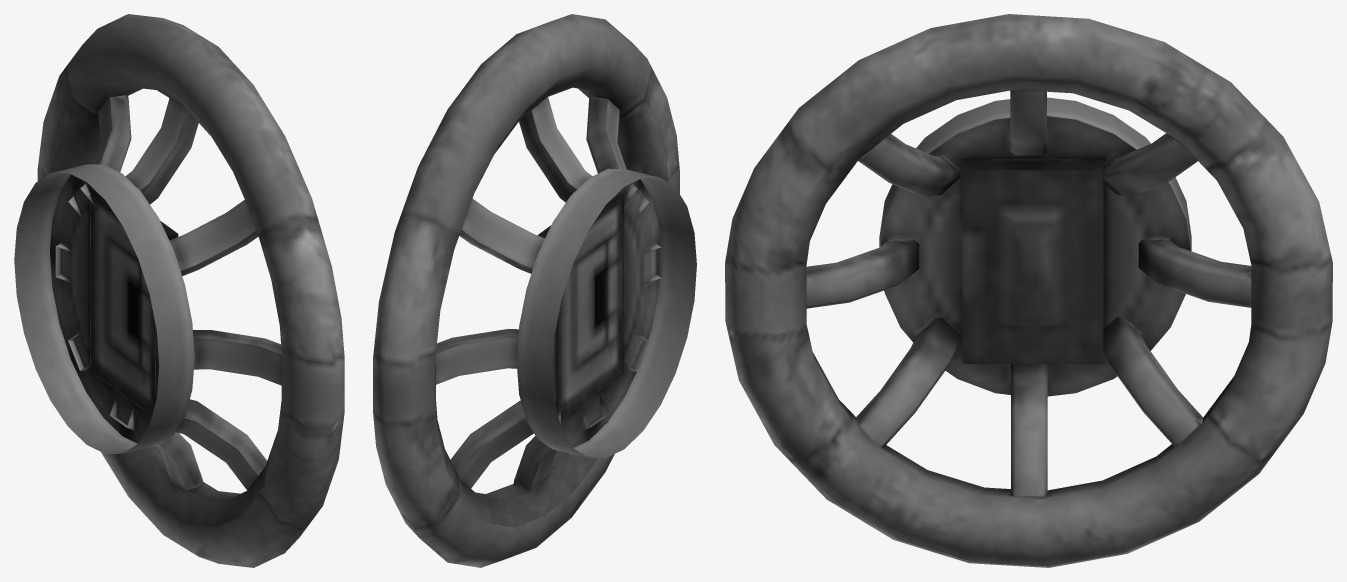
Rendered from generator_habitat_wheel.DAE.
3 renders of one model, left to right at view 1: azimuth 30°, elevation 25°; view 2: azimuth 150°, elevation 25°; view 3: azimuth 270°, elevation 25°, orthographic. The views are drawn at different scales.
Parts seen in each view (by area): view 1: generator_habitat_wheel; view 2: generator_habitat_wheel; view 3: generator_habitat_wheel.
Boxes of the visible parts, bbox=[...] form: generator_habitat_wheel: bbox=[14, 14, 344, 567]; generator_habitat_wheel: bbox=[373, 14, 696, 567]; generator_habitat_wheel: bbox=[725, 14, 1332, 567].
Bounding box in the file's own units: 10.4 × 39.95 × 40.18.
